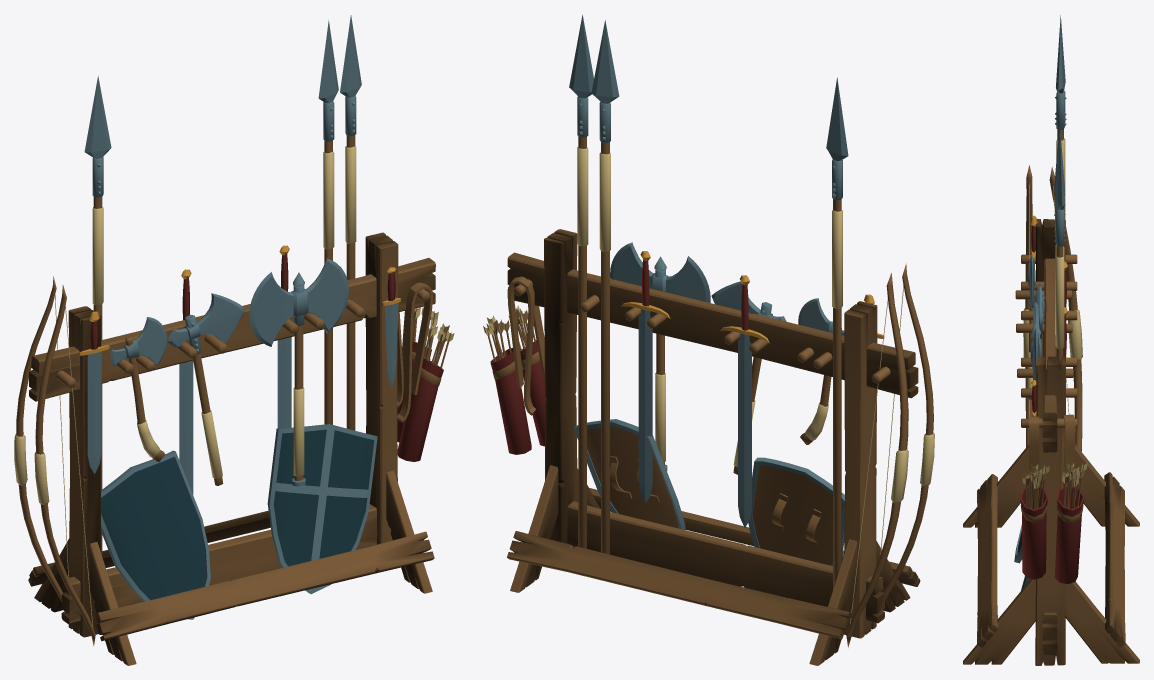
The model's file is obj_weaponRack_full.FBX.
3 renders of one model, left to right at view 1: azimuth 30°, elevation 25°; view 2: azimuth 150°, elevation 25°; view 3: azimuth 270°, elevation 25°, orthographic. The views are drawn at different scales.
Visible parts, largest first — view 1: obj_weaponRack_full; view 2: obj_weaponRack_full; view 3: obj_weaponRack_full.
Part boxes in pixels (x1,y1,x2,y2): obj_weaponRack_full: [14, 15, 454, 665]; obj_weaponRack_full: [483, 15, 934, 665]; obj_weaponRack_full: [963, 15, 1139, 665].
Bounding box in the file's own units: 6.43 × 8.06 × 2.45.
